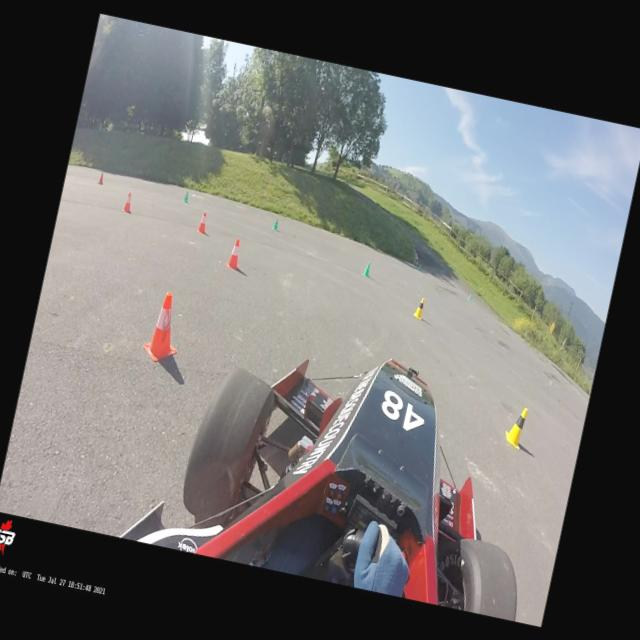orange_cone: (139, 288, 188, 366), (224, 237, 245, 270), (196, 210, 210, 234), (122, 190, 136, 213), (98, 172, 105, 184)
unknown_cone: (361, 260, 372, 277), (272, 216, 280, 230), (182, 190, 190, 202), (467, 291, 473, 301)
yellow_cone: (502, 404, 529, 451), (412, 296, 426, 320)
